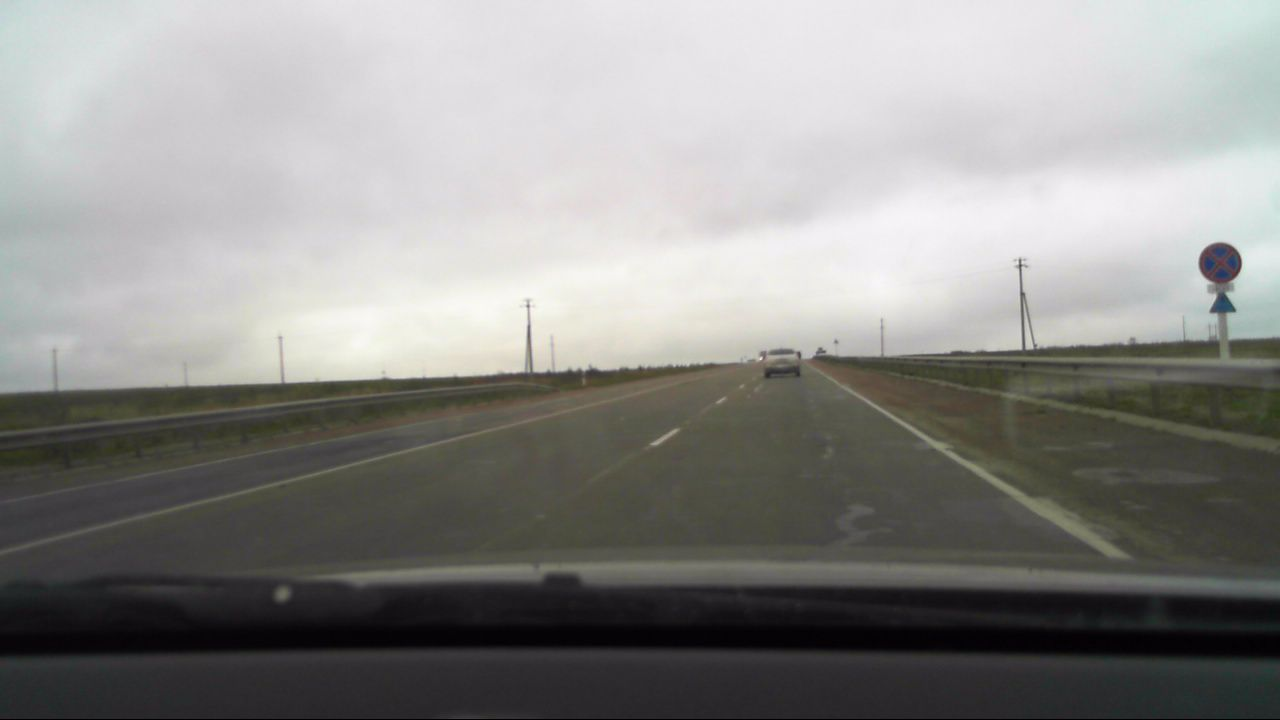No Parking: (1197, 242, 1243, 283)
